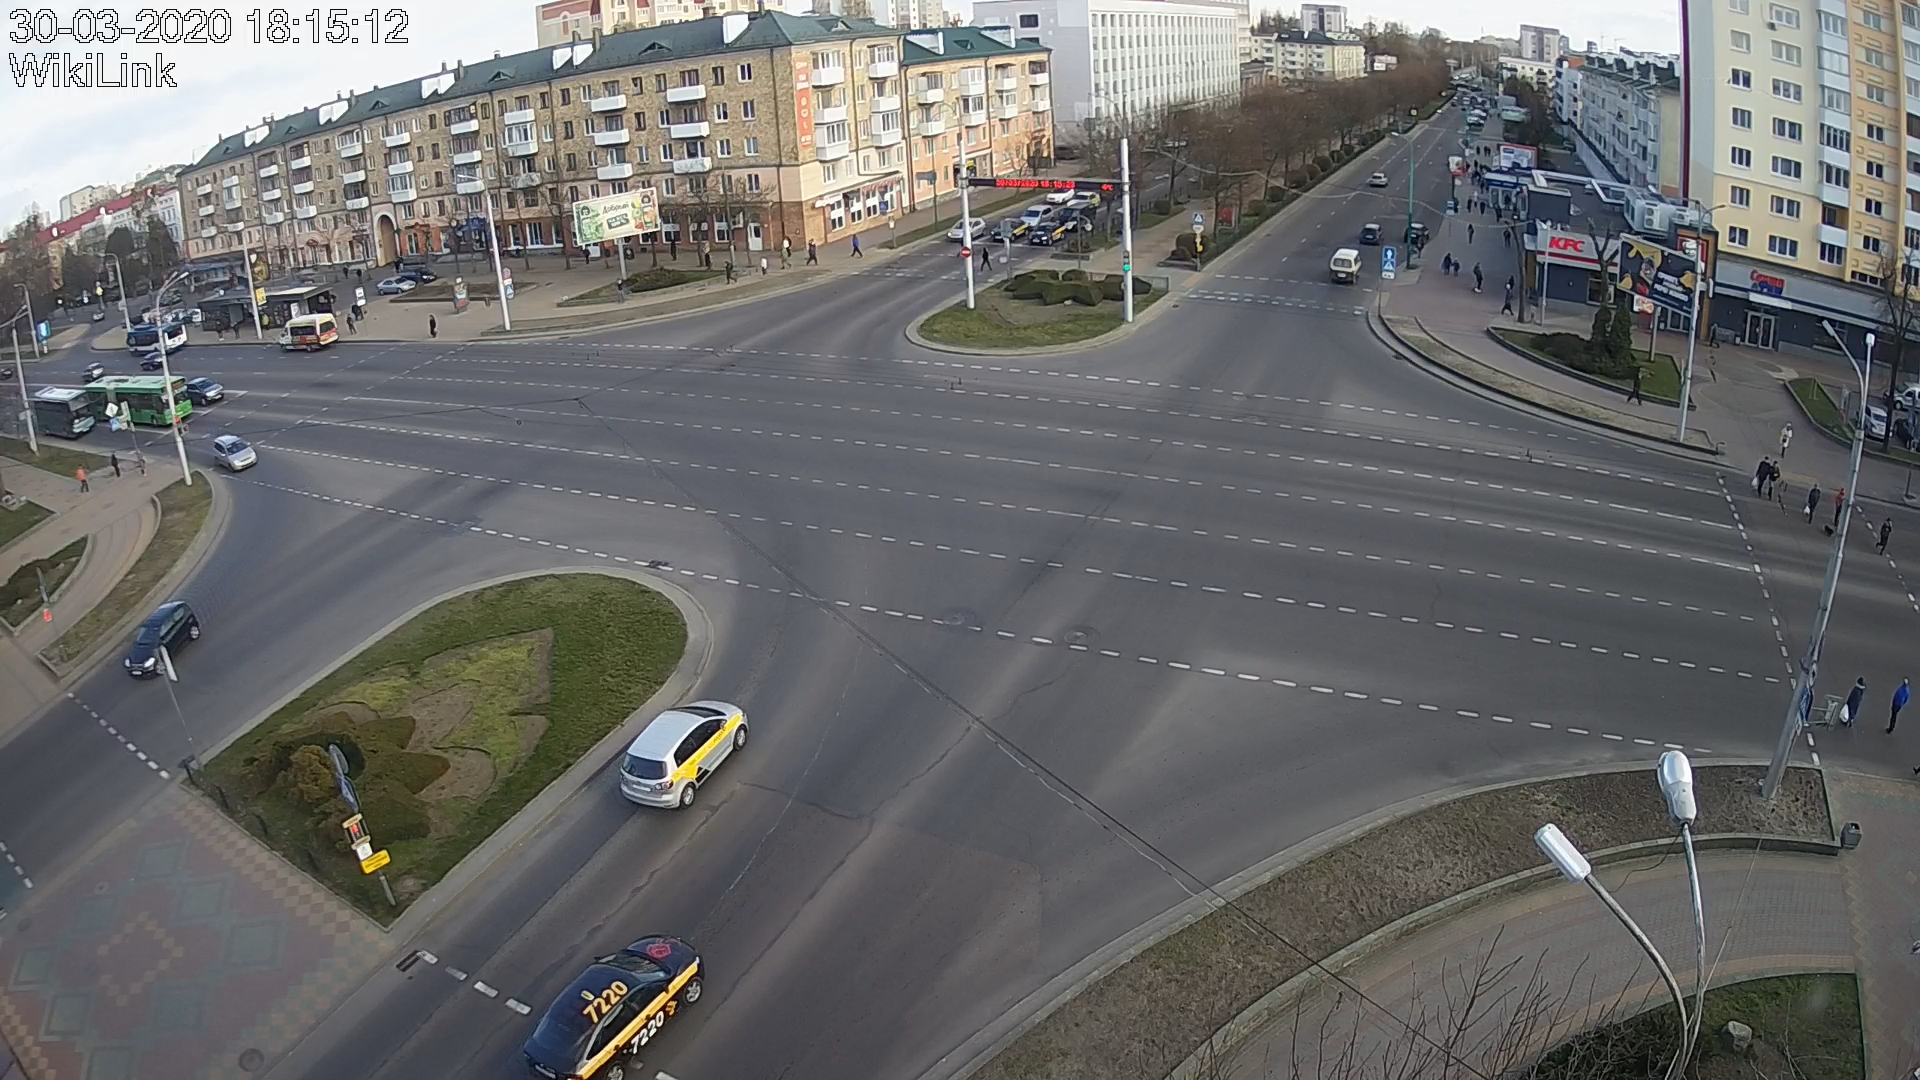bus: (88, 375, 193, 429), (32, 386, 95, 440)
car: (524, 934, 704, 1076), (618, 702, 750, 811), (124, 600, 200, 678), (280, 313, 340, 353), (214, 434, 258, 471), (1329, 248, 1364, 284), (186, 377, 224, 405), (947, 218, 986, 241), (1029, 222, 1065, 245), (992, 218, 1029, 241), (1021, 204, 1054, 228)
